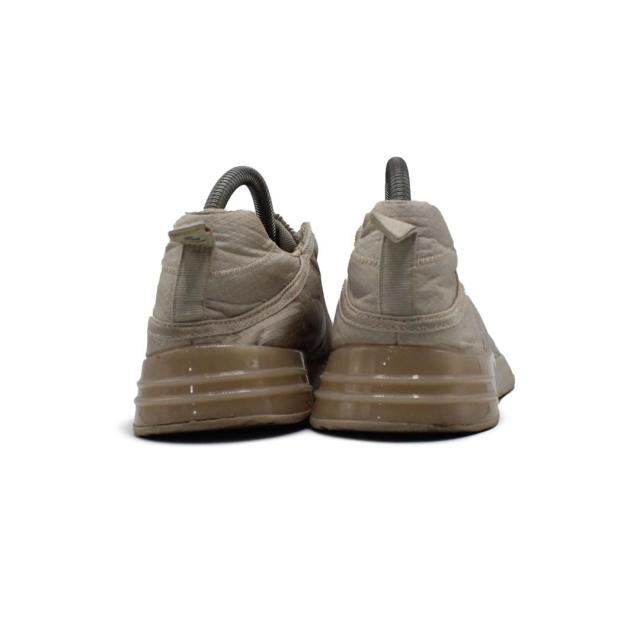heel: (330, 190, 483, 352), (155, 202, 306, 352)
midsole: (135, 356, 502, 442)
